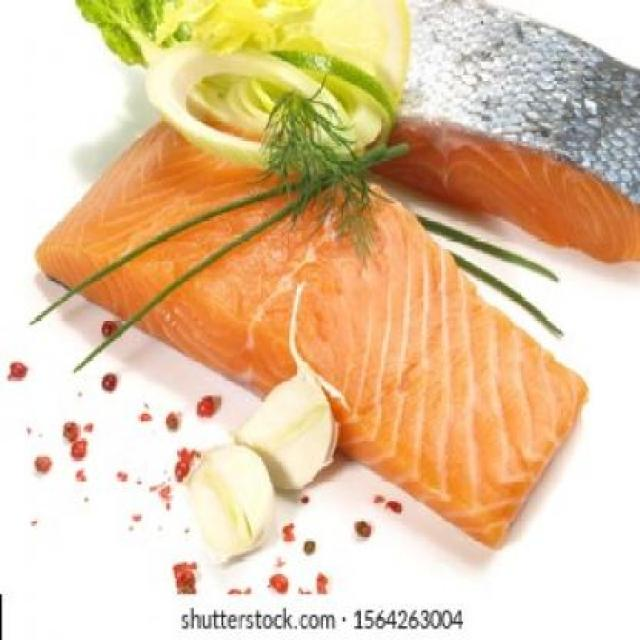salmon: (24, 80, 594, 553), (304, 1, 640, 266)
